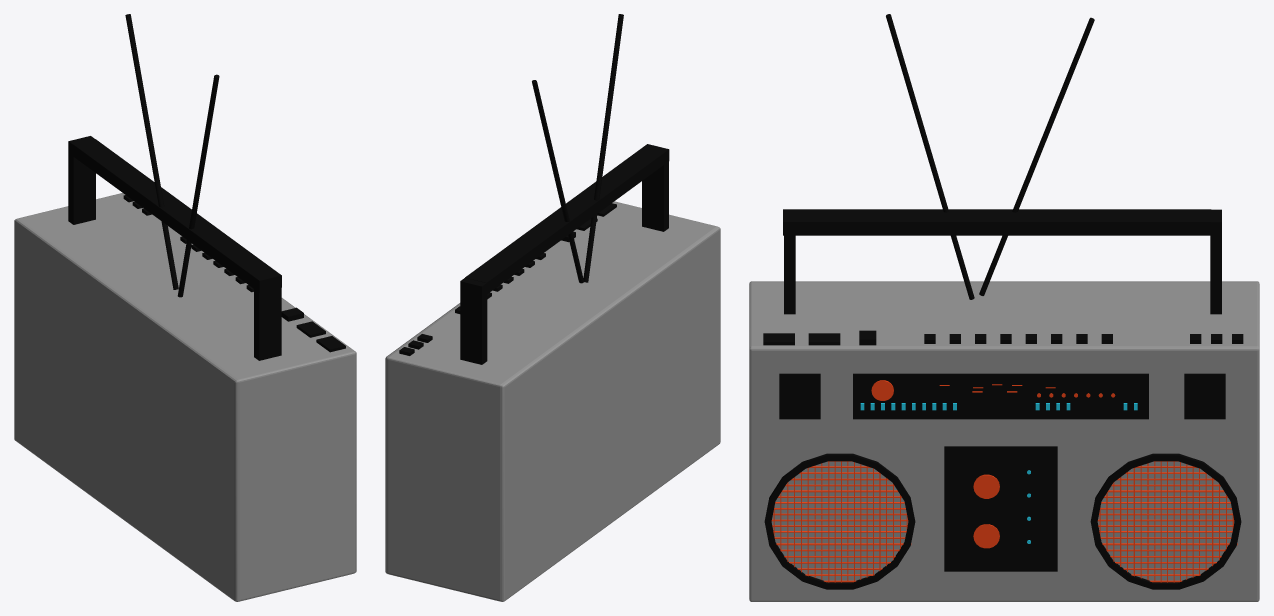
File: Boom box.obj
The picture shows the model from 3 angles, left to right: view 1: azimuth 30°, elevation 25°; view 2: azimuth 150°, elevation 25°; view 3: azimuth 270°, elevation 25°; orthographic projection. The views are drawn at different scales.
Parts seen in each view (by area): view 1: Box20351, Box20328, Box20325, Box20327, Cylinder020, Cylinder034; view 2: Box20351, Box20328, Box20327, Box20325, Cylinder034, Cylinder020; view 3: Box20351, Box20350, Box20353, Box20328, Cylinder036, Cylinder035, Box20349, Box20352, Cylinder020, Cylinder034, Box20327, Box20325.
Part boxes in pixels (<box>): Box20351: <box>14,193,356,601</box>; Box20328: <box>73,139,281,292</box>; Box20325: <box>254,278,281,360</box>; Box20327: <box>68,136,95,224</box>; Cylinder020: <box>125,14,178,289</box>; Cylinder034: <box>177,74,219,297</box>; Box20351: <box>385,201,720,601</box>; Box20328: <box>465,144,669,293</box>; Box20327: <box>460,278,487,364</box>; Box20325: <box>642,150,668,231</box>; Cylinder034: <box>583,14,623,282</box>; Cylinder020: <box>532,80,583,283</box>; Box20351: <box>749,281,1259,601</box>; Box20350: <box>944,446,1057,571</box>; Box20353: <box>853,373,1148,419</box>; Box20328: <box>783,209,1211,235</box>; Cylinder036: <box>1090,453,1241,589</box>; Cylinder035: <box>764,453,915,589</box>; Box20349: <box>1184,373,1225,419</box>; Box20352: <box>779,373,820,419</box>; Cylinder020: <box>979,17,1094,295</box>; Cylinder034: <box>886,14,974,299</box>; Box20327: <box>1210,209,1221,314</box>; Box20325: <box>784,222,795,314</box>.
Bounding box in the file's own units: 5724 × 20663 × 17592.
